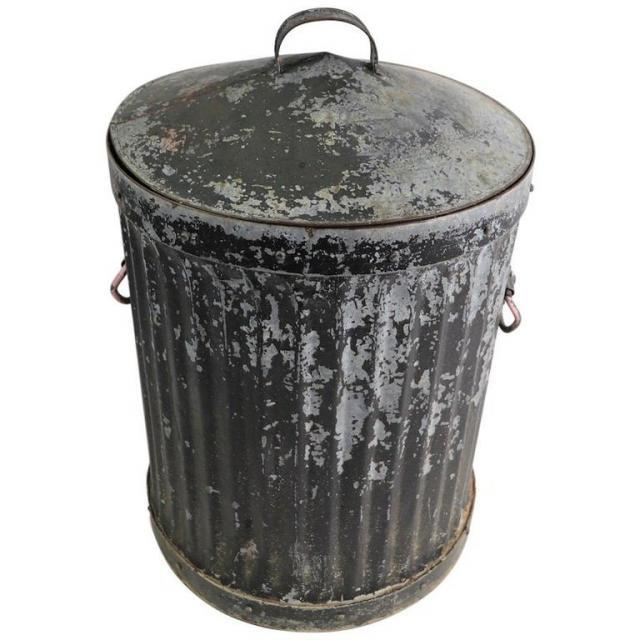Dumpster: (109, 2, 537, 636)
